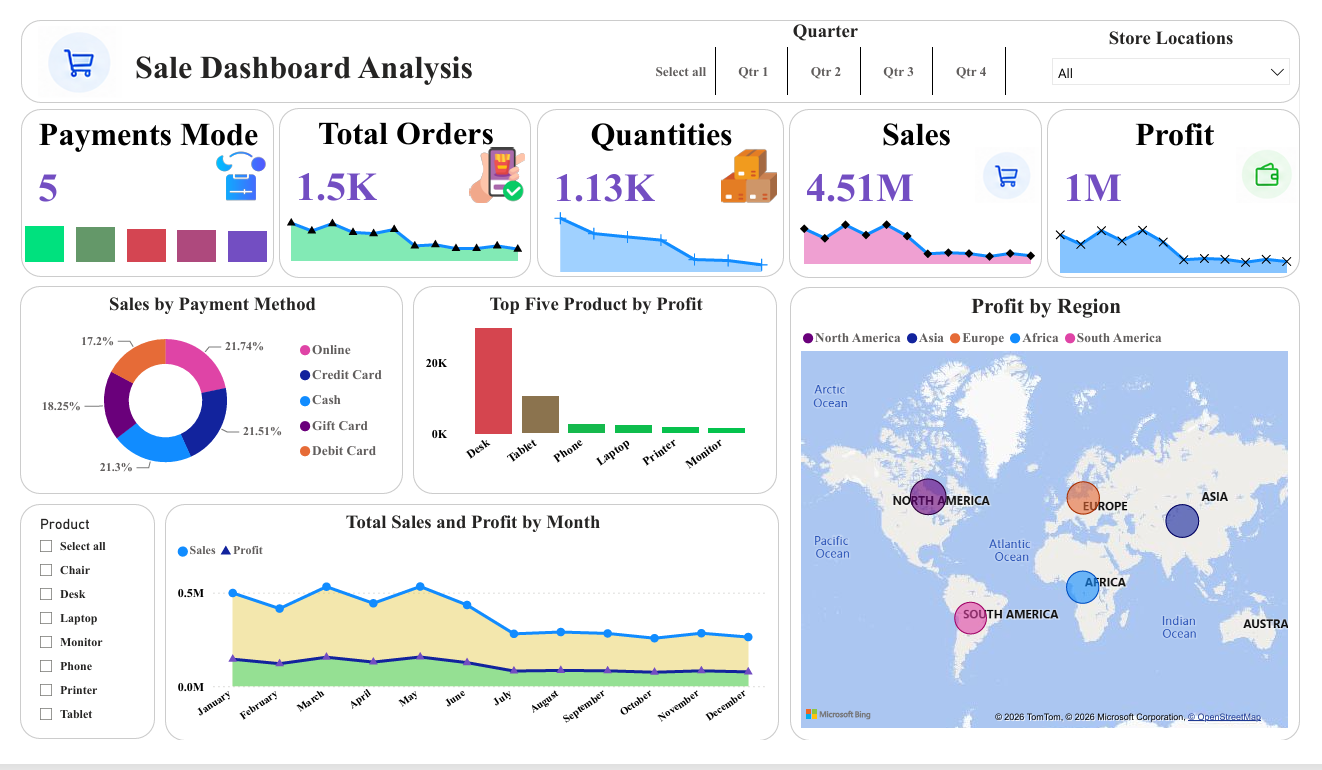

The page's visual inventory and layout, read from the dashboard file:
{"tool":"powerbi","page":{"name":"Page 1","canvas":[1280,720],"ordinal":0},"visuals":[{"type":"cardVisual","title":"Total Orders","fields":{"Data":["CountNonNull(Sales.OrderID)"]},"box":[258.9,88.1,252.5,169.8],"z":0},{"type":"cardVisual","title":"Quantities ","fields":{"Data":["CountNonNull(Sales.Promotion)"]},"box":[516.6,88.9,247,168.3],"z":1000},{"type":"areaChart","fields":{"Y":["CountNonNull(Sales.OrderID)"],"Category":["Sales.Date.Variation.Date Hierarchy.Month"]},"box":[257.6,182.4,253,64],"z":2000},{"type":"stackedAreaChart","fields":{"Category":["Sales.Product"],"Y":["Sum(Sales.Quantity)"]},"box":[522,177.5,237.8,79.3],"z":3000},{"type":"cardVisual","title":"Sales ","fields":{"Data":["Sum(Sales.Total Sales)"]},"box":[768.9,88.5,253,169],"z":4000},{"type":"cardVisual","title":"Profit","fields":{"Data":["Sum(Sales.Profit)"]},"box":[1027,88.5,253,169],"z":5000},{"type":"areaChart","fields":{"Y":["Sum(Sales.Total Sales)"],"Category":["Sales.Date.Variation.Date Hierarchy.Month"]},"box":[771.4,183.4,253,65.5],"z":6000},{"type":"lineChart","fields":{"Category":["Sales.Date.Variation.Date Hierarchy.Month"],"Y":["Sum(Sales.Profit)"]},"box":[1026.8,178.6,253,79.3],"z":7000},{"type":"cardVisual","title":"Payments Mode","fields":{"Data":["Count(Sales.PaymentMethod)"]},"box":[1.2,88.9,252.5,168.3],"z":8000},{"type":"clusteredColumnChart","fields":{"Category":["Sales.PaymentMethod"],"Y":["CountNonNull(Sales.PaymentMethod)"]},"box":[0.6,183.9,253,64],"z":9000},{"type":"image","box":[955,128.4,66,55.9],"z":10000},{"type":"image","box":[1215.4,128.4,66,55.9],"z":11000},{"type":"image","box":[697.2,128.4,66,55.9],"z":12000},{"type":"image","box":[444.5,128.4,66,55.9],"z":13000},{"type":"image","box":[187.9,128.4,66,55.9],"z":14000},{"type":"areaChart","title":"Total Sales and Profit by Month","fields":{"Category":["Sales.OrderDate.Variation.Date Hierarchy.Month"],"Y":["Sum(Sales.Total Sales)","Sum(Sales.Profit)"]},"box":[145,483.7,613.7,237.1],"z":15000},{"type":"map","title":"Profit by Region","fields":{"Category":["Sales.Region"],"Series":["Sales.Region"],"Size":["Sum(Sales.Profit)"]},"box":[769.5,266.9,510.8,453.9],"z":16000},{"type":"donutChart","title":"Sales by Payment Method","fields":{"Category":["Sales.PaymentMethod"],"Y":["Sum(Sales.Total Sales)"]},"box":[0,266.4,383.4,207.3],"z":17000},{"type":"columnChart","title":"Top Five Product by Profit","fields":{"Y":["Sum(Sales.Profit)"],"Category":["Sales.Product"]},"box":[392.9,266.4,364.4,207.3],"z":18000},{"type":"slicer","fields":{"Values":["Sales.Product"]},"box":[0,483.7,135.5,235.7],"z":19000},{"type":"textbox","title":"Sale Dashboard Analysis","box":[1.4,0,1278.9,82.6],"z":19500},{"type":"slicer","title":"Quarter","fields":{"Values":["Sales.Date.Variation.Date Hierarchy.Quarter"]},"box":[600.2,0,410.5,82.6],"z":20000},{"type":"slicer","title":"Store Locations","fields":{"Values":["Sales.StoreLocation"]},"box":[1021.5,6.8,258.8,75.9],"z":21000},{"type":"image","box":[13.5,6.8,94.8,72],"z":21001}]}

Visuals, with their boxes on the page's 1280x720 design canvas (x1, y1, x2, y2). These are canvas units, not pixel positions in the 1322x770 screenshot, which may show the page scaled, cropped or inside an application window:
"Total Orders" cardVisual: l=259, t=88, r=511, b=258
"Quantities " cardVisual: l=517, t=89, r=764, b=257
areaChart - CountNonNull(Sales.OrderID) x Sales.Date.Variation.Date Hierarchy.Month: l=258, t=182, r=511, b=246
stackedAreaChart - Sales.Product x Sum(Sales.Quantity): l=522, t=178, r=760, b=257
"Sales " cardVisual: l=769, t=88, r=1022, b=258
"Profit" cardVisual: l=1027, t=88, r=1280, b=258
areaChart - Sum(Sales.Total Sales) x Sales.Date.Variation.Date Hierarchy.Month: l=771, t=183, r=1024, b=249
lineChart - Sales.Date.Variation.Date Hierarchy.Month x Sum(Sales.Profit): l=1027, t=179, r=1280, b=258
"Payments Mode" cardVisual: l=1, t=89, r=254, b=257
clusteredColumnChart - Sales.PaymentMethod x CountNonNull(Sales.PaymentMethod): l=1, t=184, r=254, b=248
image: l=955, t=128, r=1021, b=184
image: l=1215, t=128, r=1281, b=184
image: l=697, t=128, r=763, b=184
image: l=444, t=128, r=510, b=184
image: l=188, t=128, r=254, b=184
"Total Sales and Profit by Month" areaChart: l=145, t=484, r=759, b=721
"Profit by Region" map: l=770, t=267, r=1280, b=721
"Sales by Payment Method" donutChart: l=0, t=266, r=383, b=474
"Top Five Product by Profit" columnChart: l=393, t=266, r=757, b=474
slicer - Sales.Product: l=0, t=484, r=136, b=719
"Sale Dashboard Analysis" textbox: l=1, t=0, r=1280, b=83
"Quarter" slicer: l=600, t=0, r=1011, b=83
"Store Locations" slicer: l=1022, t=7, r=1280, b=83
image: l=14, t=7, r=108, b=79
